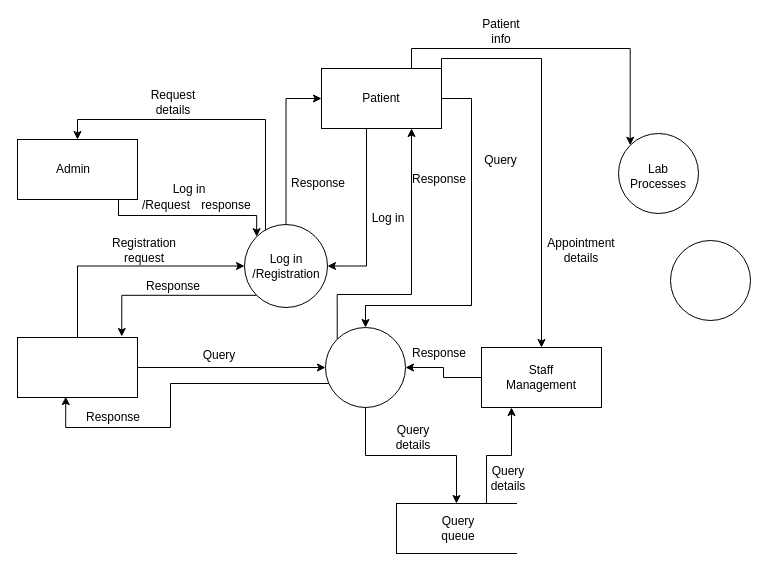
Some shapes in this 768 by 576 pixel diagram are drawn without their labels. Each missing label, with the centre of its shape:
Query Management: the point at 365,367
User: the point at 77,367
